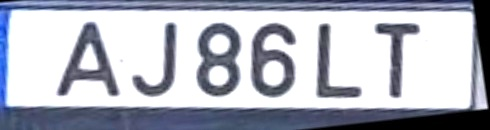6: (249, 20, 300, 101)
8: (195, 20, 244, 100)
A: (50, 19, 124, 100)
J: (128, 20, 179, 100)
L: (315, 21, 367, 100)
T: (374, 21, 423, 101)
